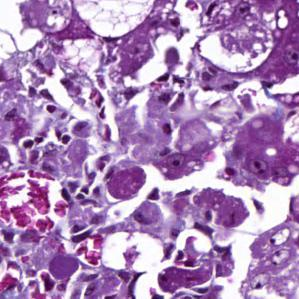inflammation: (24, 71, 68, 122)
